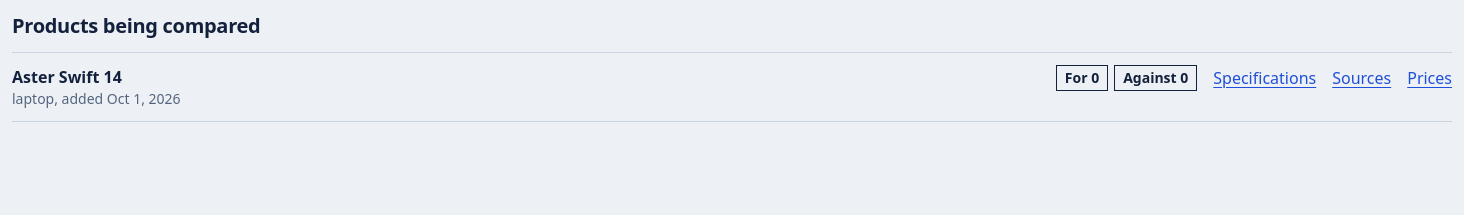
Test: ProductsPanel › lets only the product's creator edit its specifications
Click the button with aria-label "Specifications of Aster Swift 14" at (1265, 78), box [1213,66,1316,90]
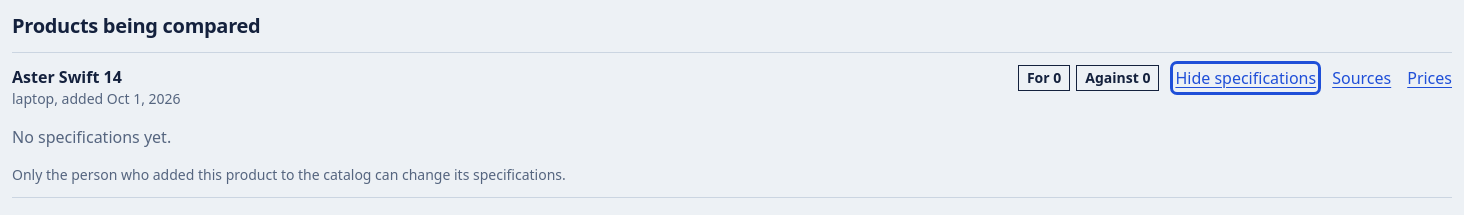
Result: the text "Only the person who added this product" is shown at [12,165,566,184]
